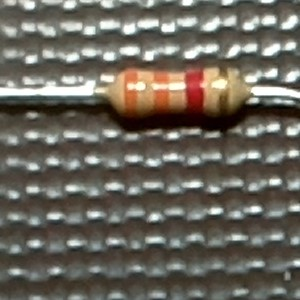gold_band: (215, 64, 232, 122)
orange_band: (122, 66, 143, 123), (152, 67, 173, 118)
red_band: (182, 68, 207, 116)
